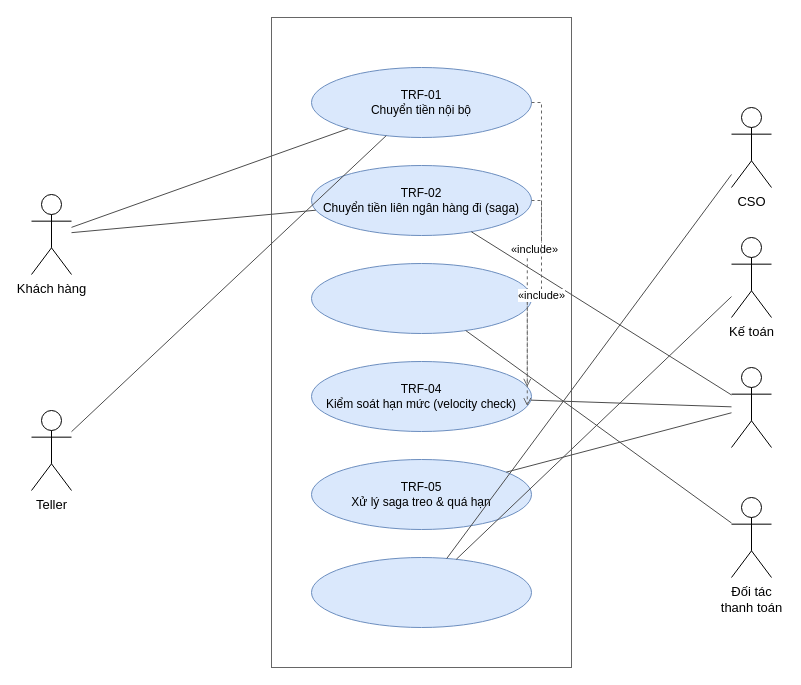
Image size: 801x685. Some labels were removed from this diagram. Here are the shapes that lost their labels. From the top down, the box of each, then its label:
(310, 262, 532, 334): TRF-03 Nhận tiền liên ngân hàng đến
(270, 16, 572, 668): core-banking-service
(730, 366, 772, 448): Hệ thống (saga / job)
(310, 556, 532, 628): TRF-06 Tra soát & hoàn trả giao dịch
